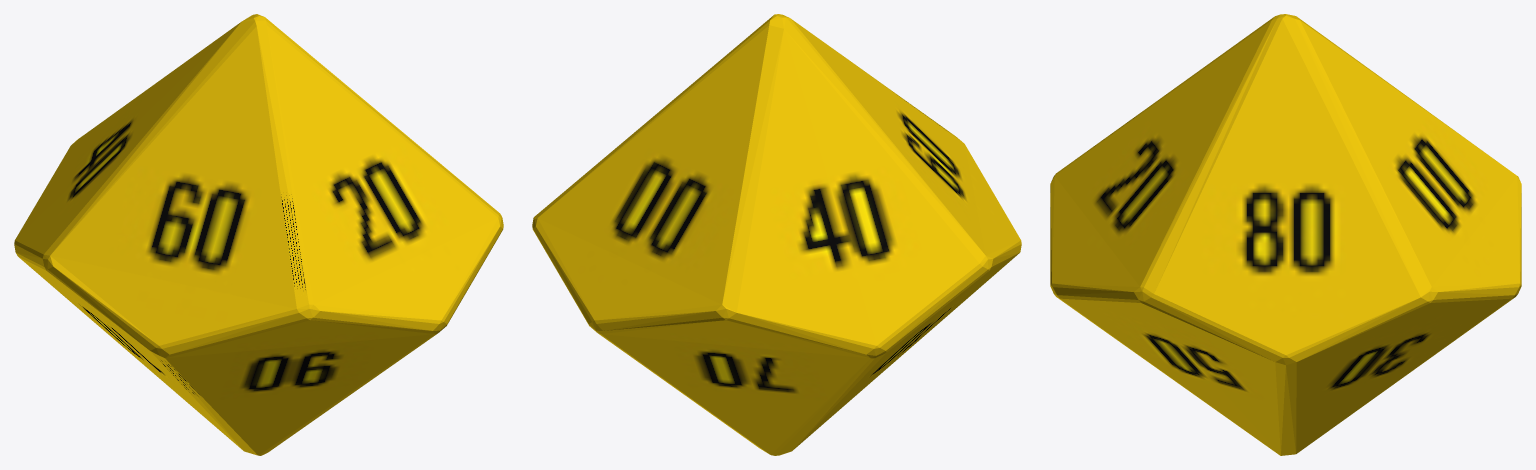
File: d10cent.obj
The picture shows the model from 3 angles, left to right: view 1: azimuth 30°, elevation 25°; view 2: azimuth 150°, elevation 25°; view 3: azimuth 270°, elevation 25°; orthographic projection.
Visible parts, largest first — view 1: D10_00_90; view 2: D10_00_90; view 3: D10_00_90.
Part boxes in pixels (x1,y1,x2,y2): D10_00_90: (14, 14, 503, 455); D10_00_90: (532, 14, 1021, 455); D10_00_90: (1050, 14, 1521, 455).
Bounding box in the file's own units: 2.12 × 2.08 × 2.03.
1 material, 1 textured.
